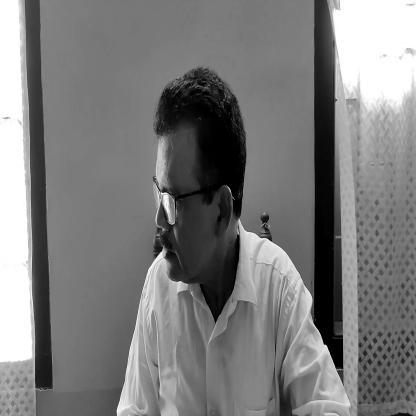Distracted: (141, 70, 254, 290)
